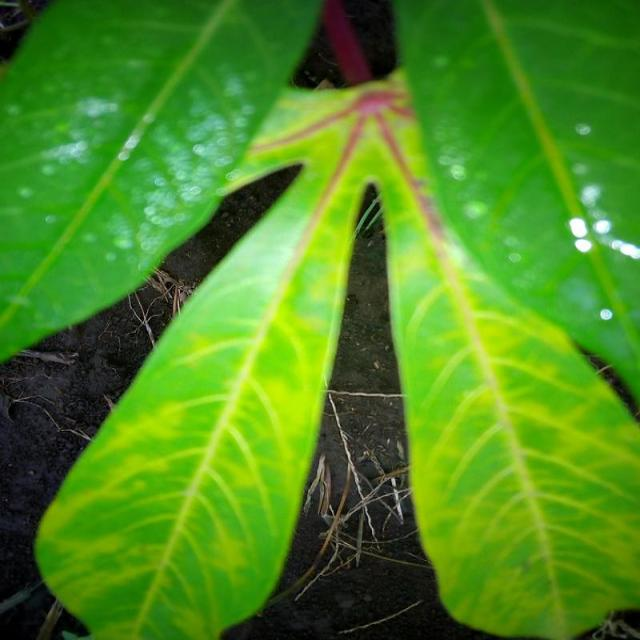cassava leaf: (24, 0, 638, 637), (0, 0, 324, 365)
